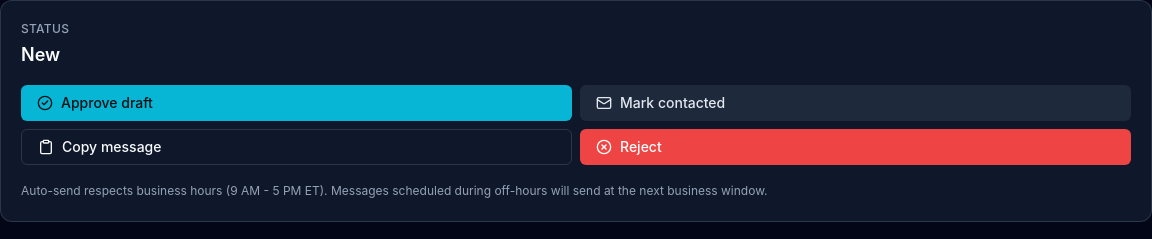
ReviewPanel › sets status to rejected when "Reject" is clicked
Click the button "Reject" at (641, 146), box [580,129,1131,165]
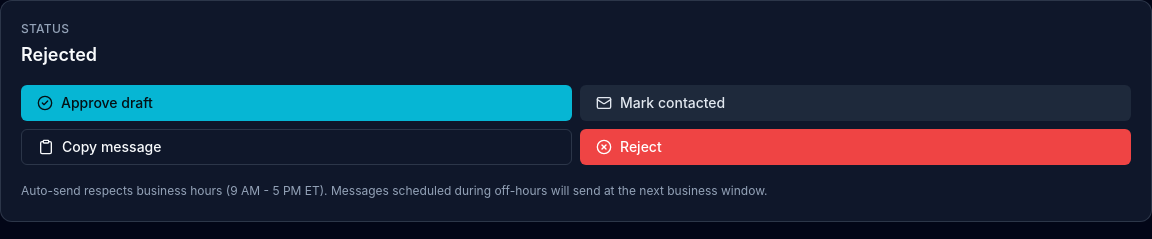
Check: the text "rejected" is shown, box [21,44,97,65]
